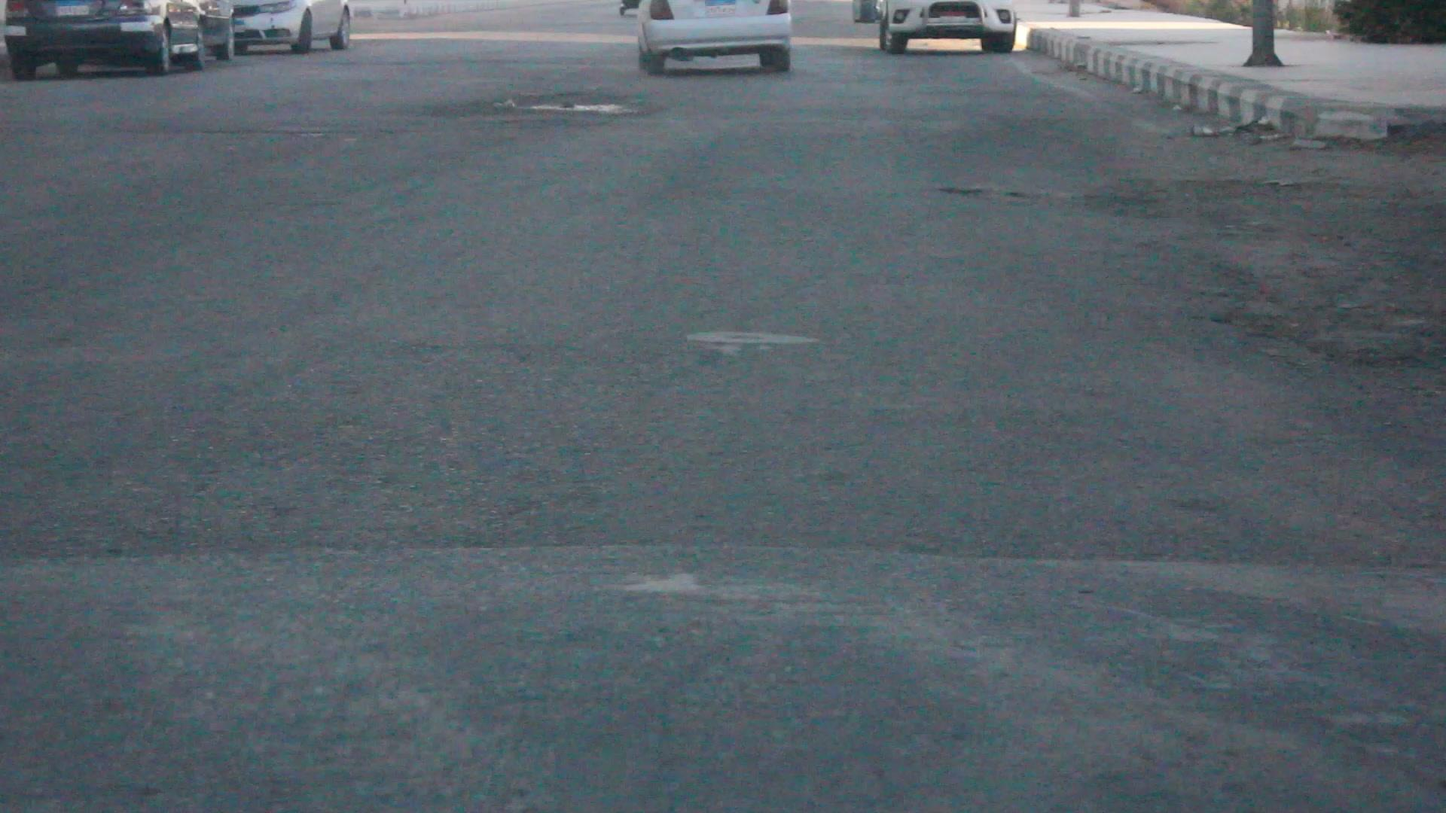Bump: (0, 542, 1445, 812)
Pothole: (970, 177, 1445, 361), (432, 88, 655, 116)
